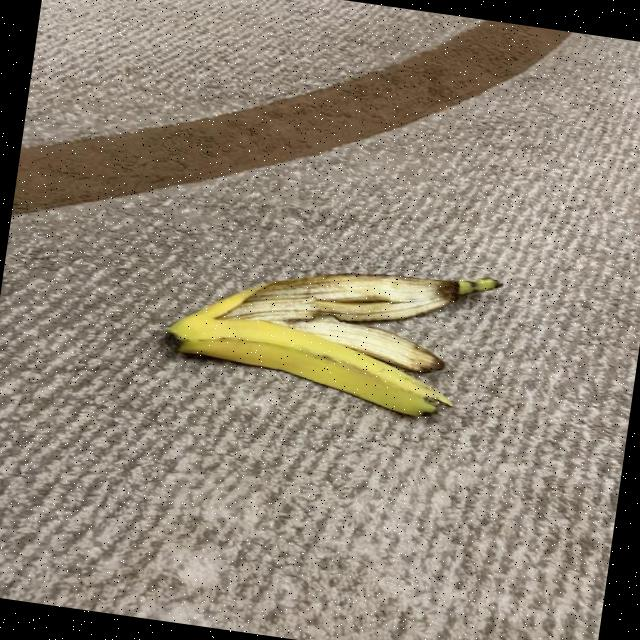banana-peel: (156, 232, 504, 428), (159, 302, 461, 423), (220, 240, 502, 357)
